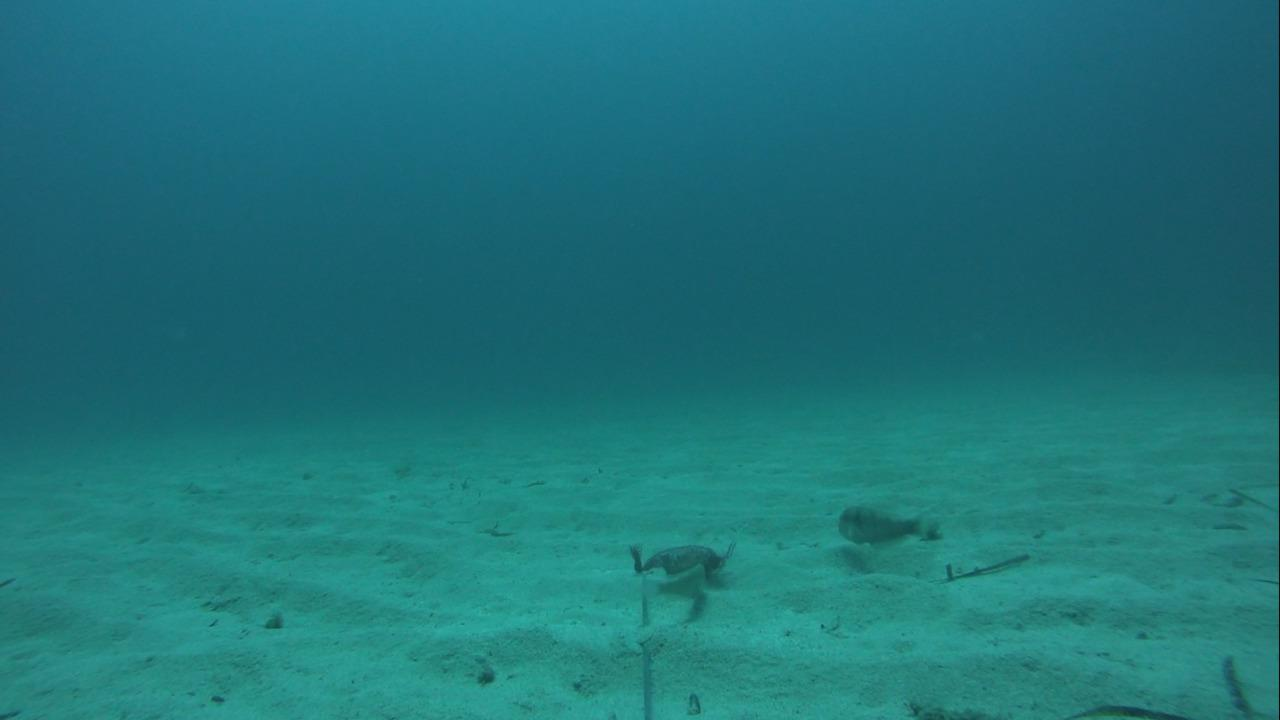raor: (832, 502, 923, 545), (639, 562, 712, 601)
